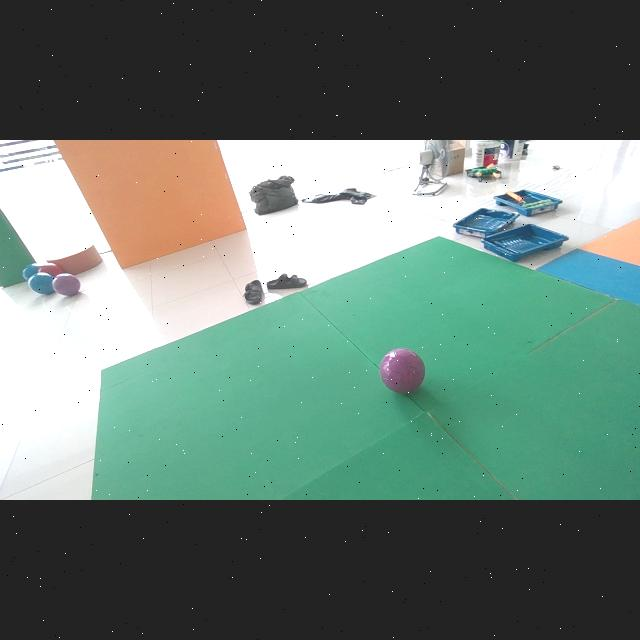P: (379, 348, 425, 394)
